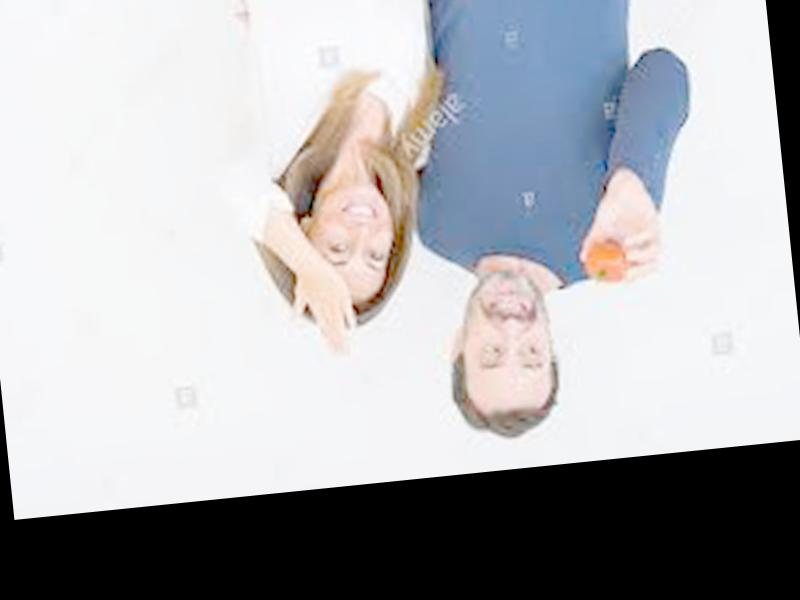Tomato: (584, 241, 628, 289)
